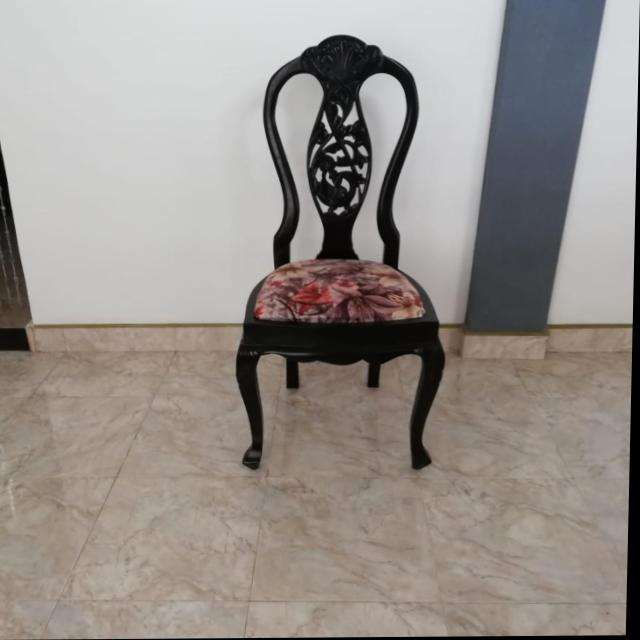Chair: (237, 35, 455, 471)
